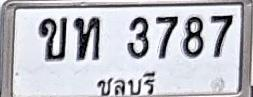3: (127, 16, 149, 59)
7: (155, 15, 178, 59), (210, 14, 233, 57)
8: (182, 15, 204, 58)
A02: (38, 16, 67, 60)
A23: (74, 16, 101, 60)
CBI: (92, 68, 161, 97)
